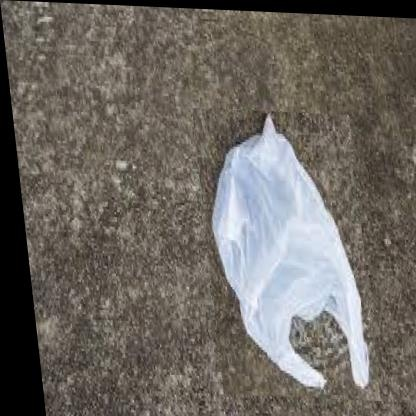trash: (212, 114, 368, 388)
